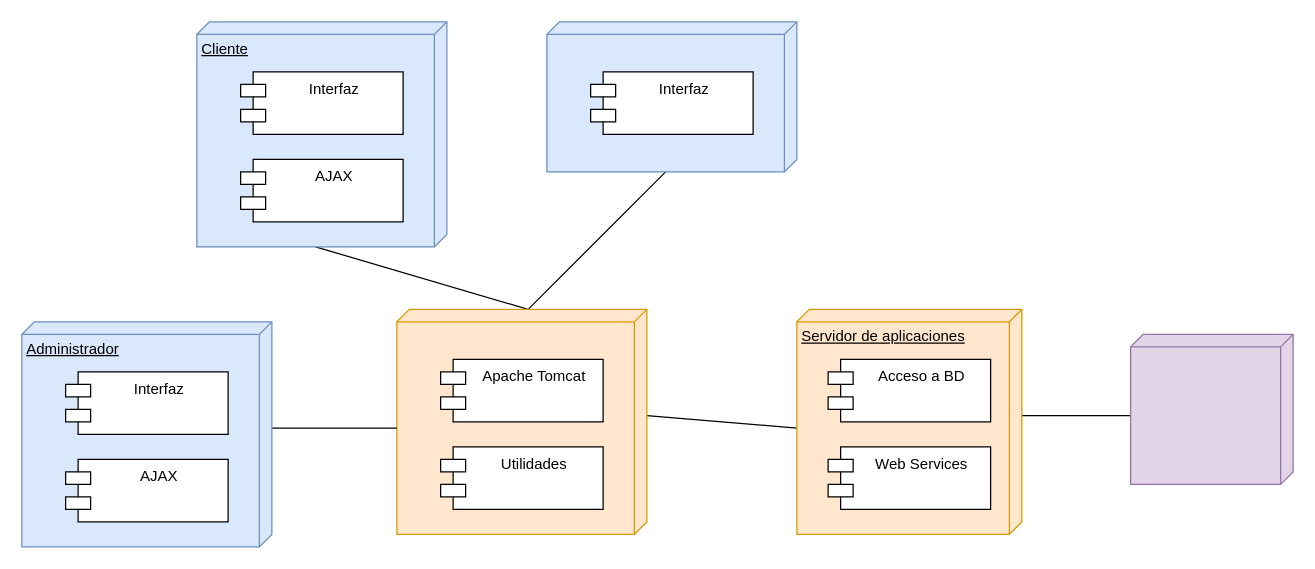
Some shapes in this 1315 by 569 pixel diagram are drawn without their labels. The shapes that lost their labels are listed below. From the top down, each one's box as (x1, y1, x2, y2) in pixels, then its label:
(546, 21, 797, 172): Cliente móvil
(396, 308, 647, 534): Servidor Web
(1129, 333, 1293, 484): Base de datos
